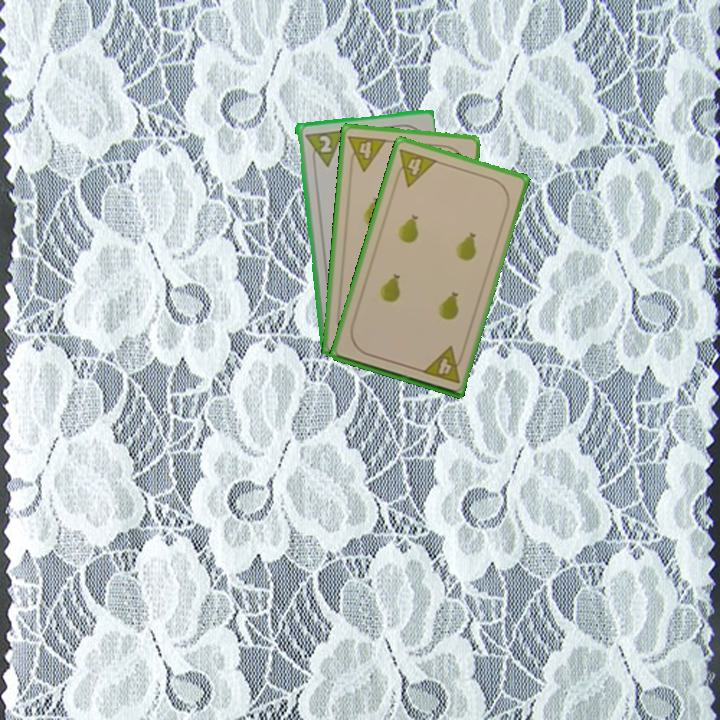2p: (301, 126, 345, 170)
4p: (390, 145, 440, 190), (418, 343, 467, 386), (345, 131, 389, 174)
